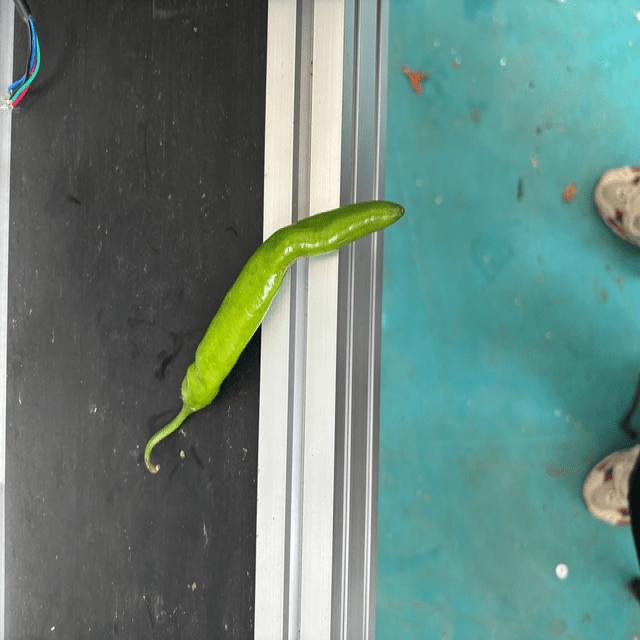chili: (181, 199, 408, 413)
